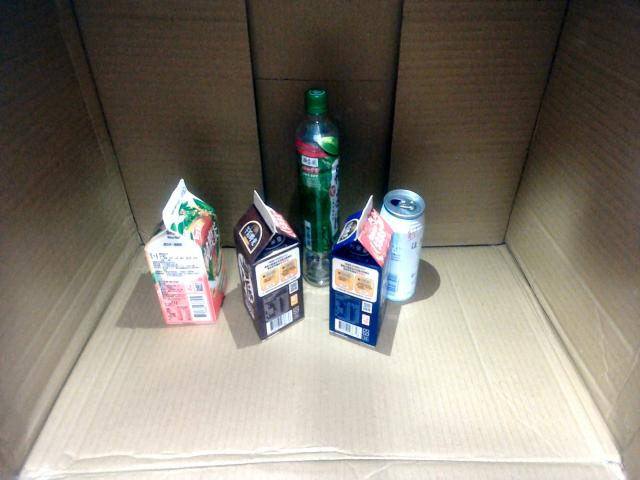Canned_drinks: (379, 189, 426, 303)
bottle: (293, 86, 343, 288)
